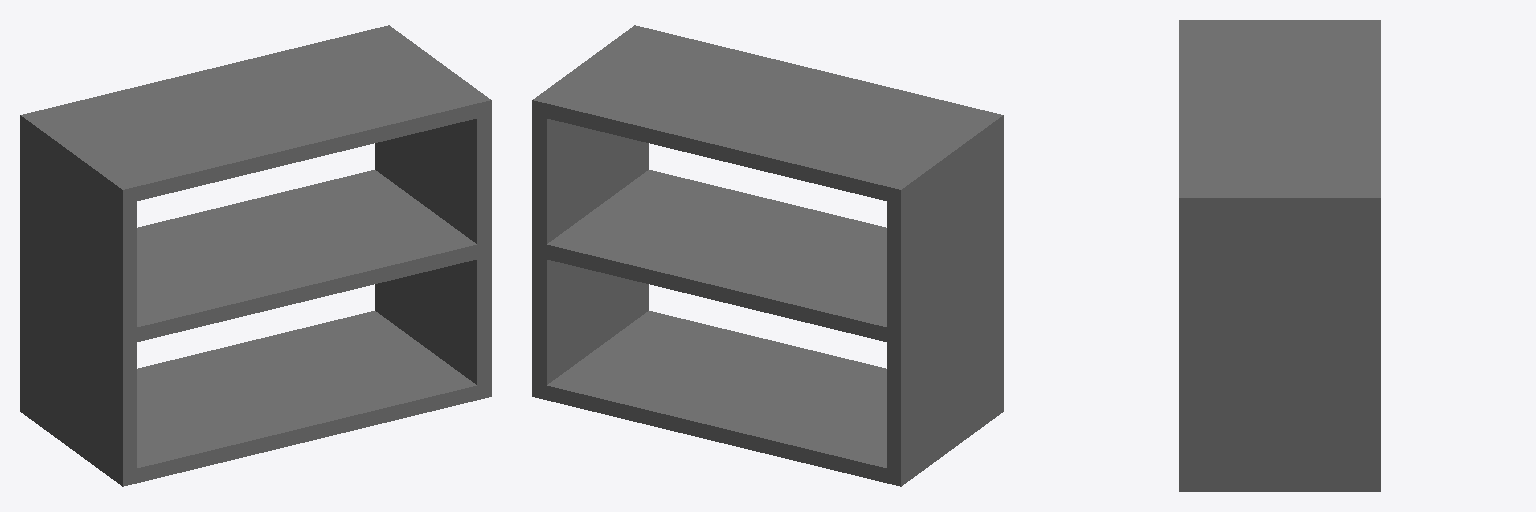
The robot description file, URDF, robot "shelf.urdf":
<?xml version="1.0" ?>
<robot name="shelf.urdf">
  <material name="Light Grey">
    <color rgba=".5 .5 .5 1"/>
  </material>
  <material name="Navy Blue">
    <color rgba="0 0 .3 1"/>
  </material>

  <link name="baseLink">
    <contact>
      <lateral_friction value="1.0"/>
    </contact>
    <inertial>
      <origin rpy="0 0 0" xyz="0 0 0"/>
      <mass value=".0"/>
      <inertia ixx="1" ixy="0" ixz="0" iyy="1" iyz="0" izz="1"/>
    </inertial>
    <visual>
      <origin rpy="0 0 0" xyz=".25 0 0"/>
      <geometry>
				<box size=".02 .25 .4"/>
      </geometry>
      <material name="Light Grey"/>
    </visual>
    <collision>
      <origin rpy="0 0 0" xyz=".25 0 0"/>
      <geometry>
				<box size=".02 .25 .4"/>
      </geometry>
    </collision>

    <visual>
      <origin rpy="0 0 0" xyz="-.25 0 0"/>
      <geometry>
				<box size=".02 .25 .4"/>
      </geometry>
      <material name="Light Grey"/>
    </visual>
    <collision>
      <origin rpy="0 0 0" xyz="-.25 0 0"/>
      <geometry>
				<box size=".02 .25 .4"/>
      </geometry>
    </collision>

    <visual>
      <origin rpy="0 0 0" xyz="0 0 .19"/>
      <geometry>
				<box size=".5 .25 .02"/>
      </geometry>
      <material name="Light Grey"/>
    </visual>
    <collision>
      <origin rpy="0 0 0" xyz="0 0 .19"/>
      <geometry>
				<box size=".5 .25 .02"/>
      </geometry>
    </collision>

    <visual>
      <origin rpy="0 0 0" xyz="0 0 0"/>
      <geometry>
				<box size=".5 .25 .02"/>
      </geometry>
      <material name="Light Grey"/>
    </visual>
    <collision>
      <origin rpy="0 0 0" xyz="0 0 0"/>
      <geometry>
				<box size=".5 .25 .02"/>
      </geometry>
    </collision>

    <visual>
      <origin rpy="0 0 0" xyz="0 0 -.19"/>
      <geometry>
				<box size=".5 .25 .02"/>
      </geometry>
      <material name="Light Grey"/>
    </visual>
    <collision>
      <origin rpy="0 0 0" xyz="0 0 -.19"/>
      <geometry>
				<box size=".5 .25 .02"/>
      </geometry>
    </collision>
  </link>
</robot>

--- Render facts (derived) ---
The picture shows the robot from 3 angles, left to right: view 1: azimuth 30°, elevation 25°; view 2: azimuth 150°, elevation 25°; view 3: azimuth 270°, elevation 25°; orthographic projection.
Model shelf.urdf with 1 links and 0 joints (none), rooted at baseLink, posed every joint at zero.
Visible links, largest first — view 1: baseLink; view 2: baseLink; view 3: baseLink.
Boxes of the visible links, x1,y1,x2,y2 form: baseLink: (20, 25, 491, 486); baseLink: (532, 25, 1003, 486); baseLink: (1179, 20, 1380, 491).
Bounding box of the posed robot: 0.52 × 0.25 × 0.4 m (x, y, z).
Geometry: primitives only (box / cylinder / sphere), no mesh files.
